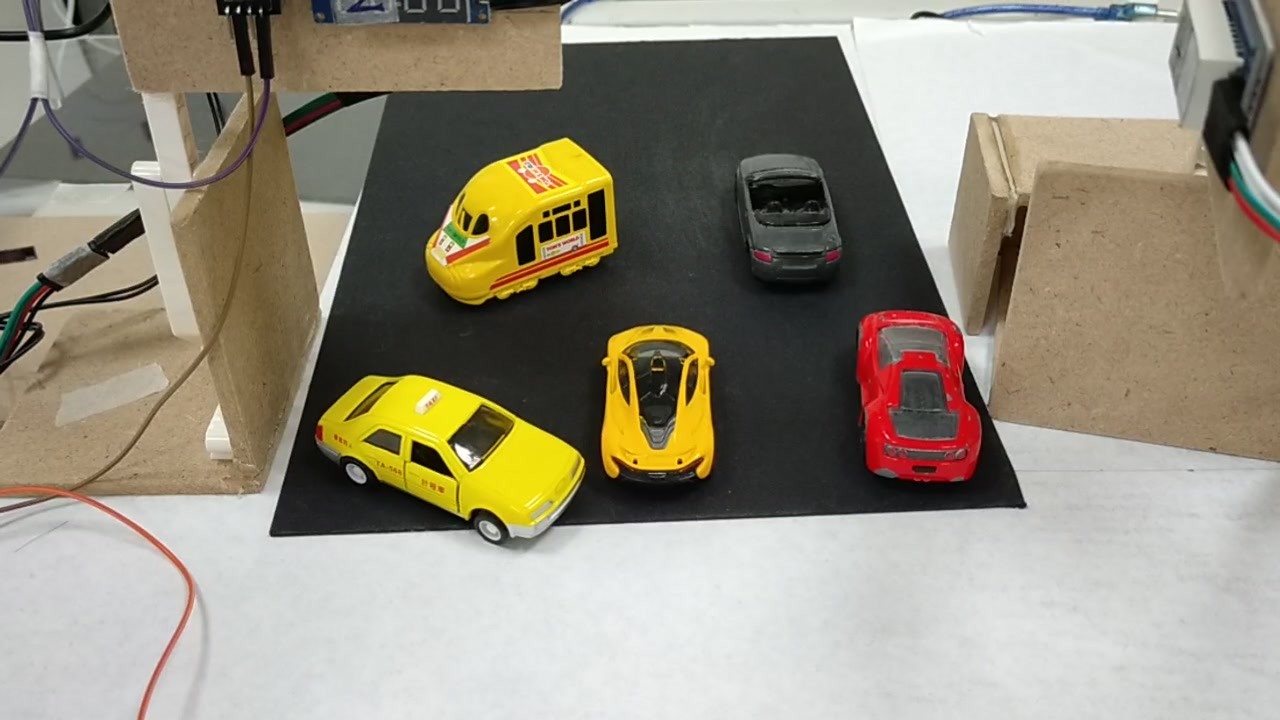car: (313, 370, 584, 552), (861, 313, 980, 480), (602, 328, 712, 483), (733, 156, 839, 283)
